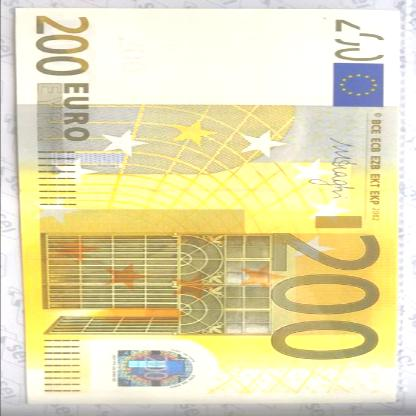euro_banknote: (9, 17, 406, 399)
